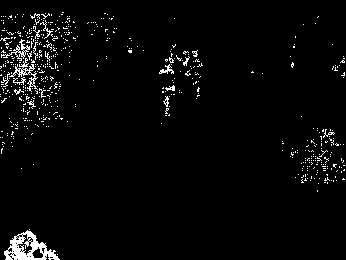person: (157, 57, 178, 118)
